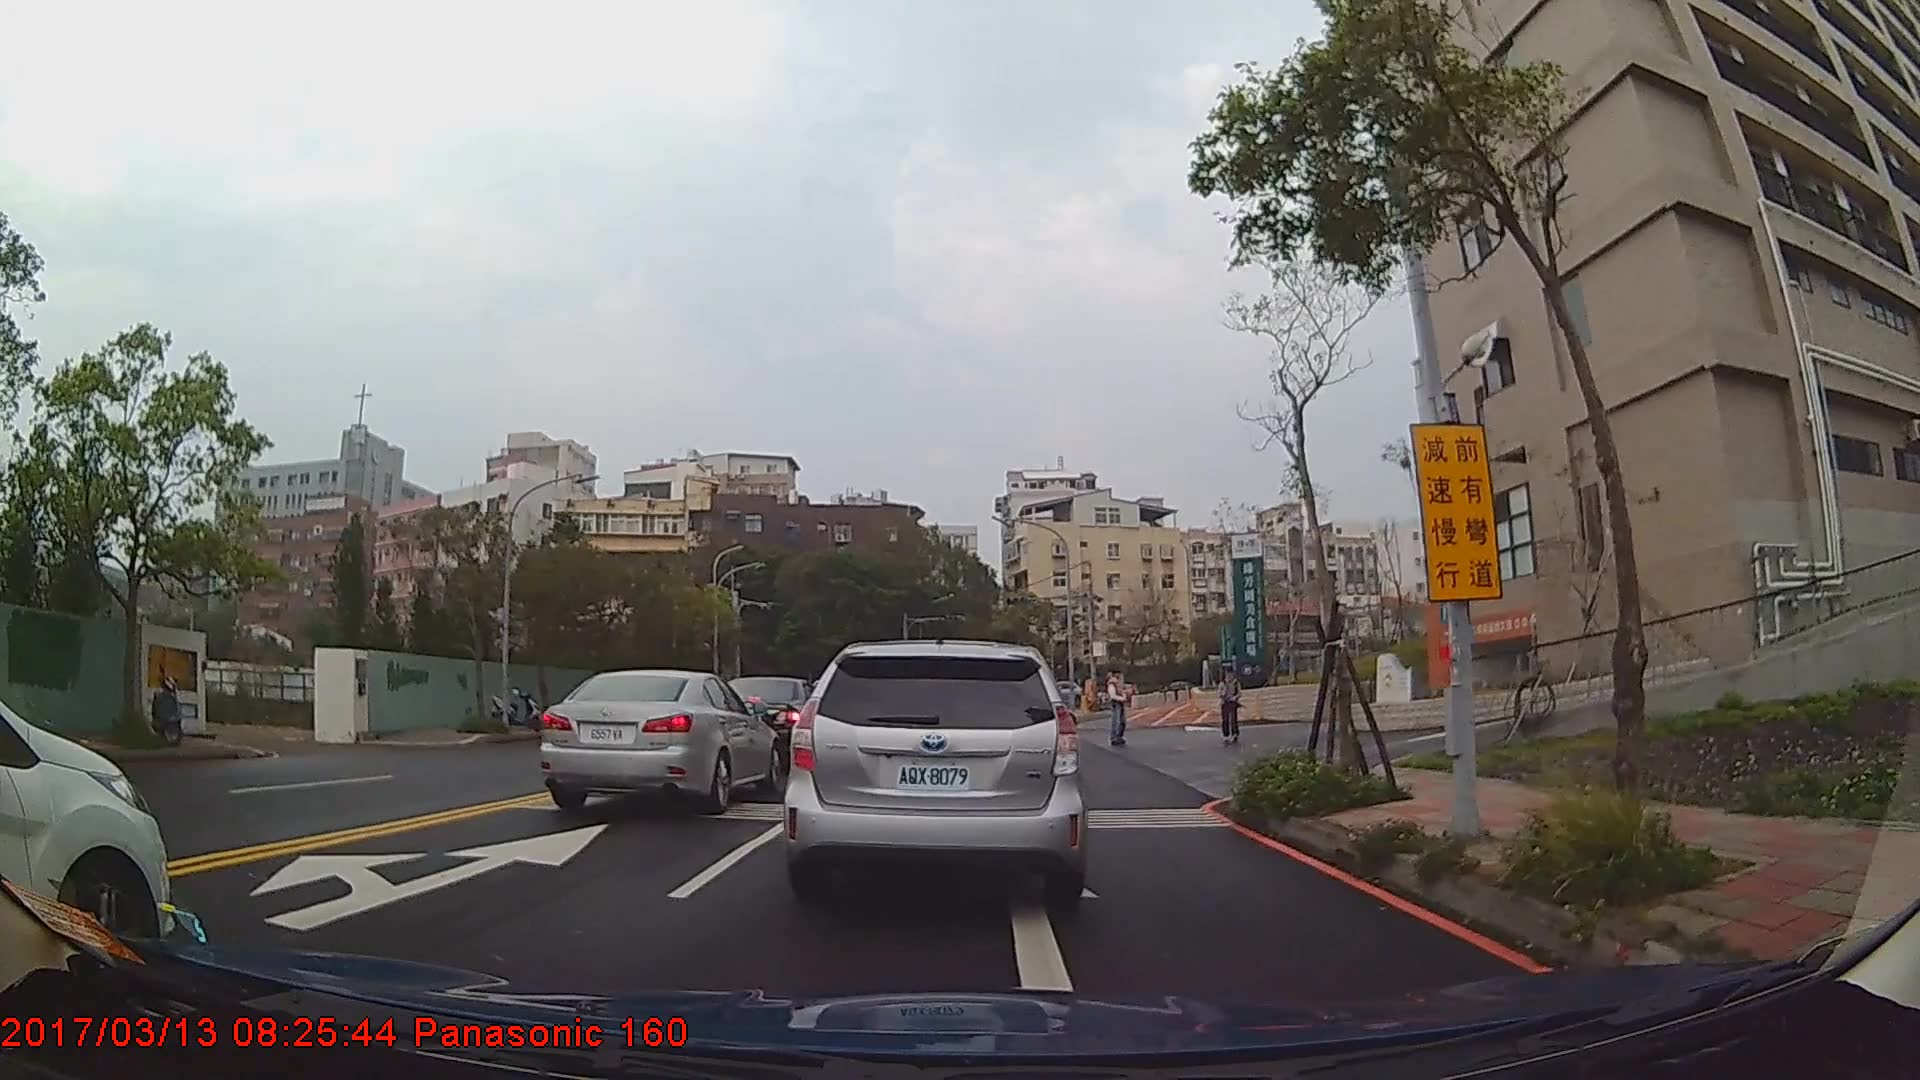pedestrian: (1104, 668, 1132, 745), (1220, 668, 1245, 745)
vehicle: (784, 636, 1089, 899), (0, 696, 174, 961), (539, 669, 783, 809)
